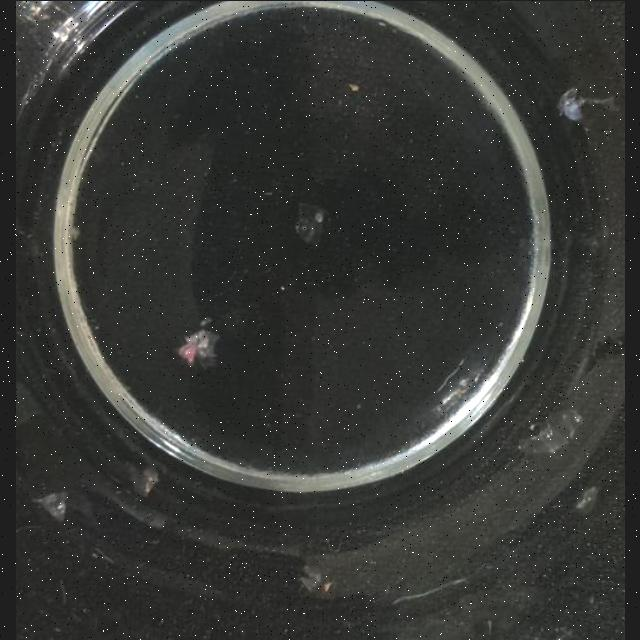Fibre: (518, 404, 584, 454), (36, 492, 66, 520)
Fragment: (176, 325, 218, 369)
microbeads: (543, 623, 578, 640), (347, 81, 359, 91)
